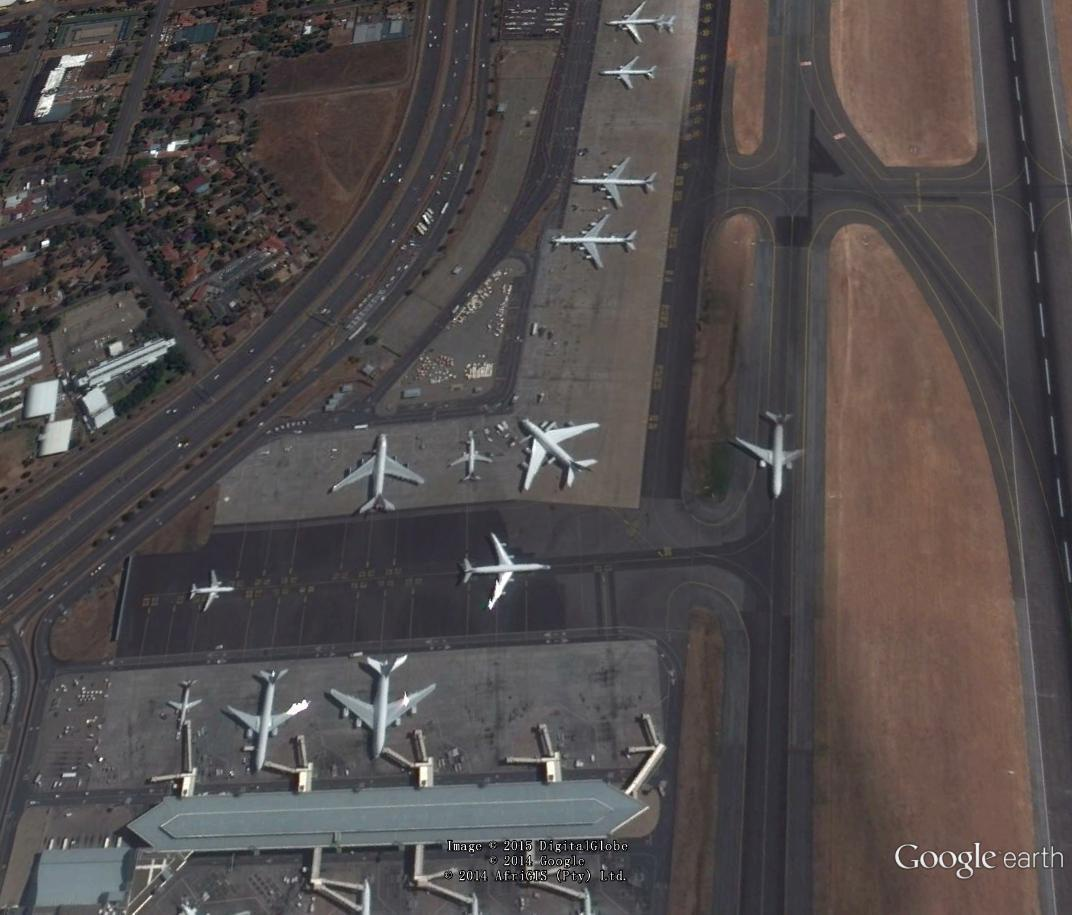aircraft: (326, 648, 443, 766), (224, 661, 310, 777), (326, 427, 431, 520), (458, 526, 558, 618), (732, 400, 813, 508), (514, 412, 606, 495), (571, 151, 664, 213), (547, 213, 646, 271), (607, 1, 685, 46), (442, 426, 494, 489), (182, 564, 238, 618), (164, 676, 205, 735), (598, 54, 664, 90)
